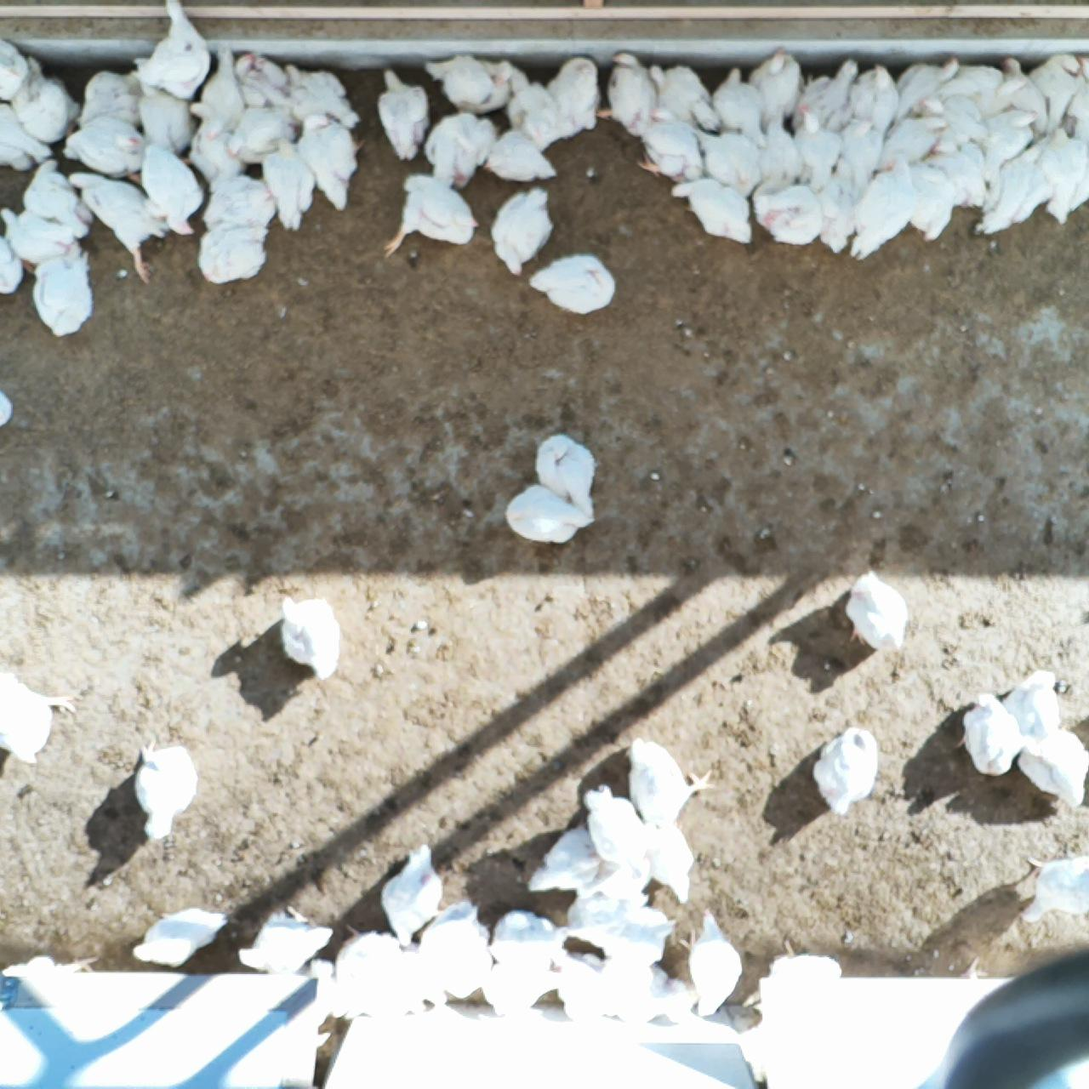chicken: (67, 166, 172, 284), (381, 153, 481, 259), (624, 734, 719, 830), (132, 0, 225, 98), (974, 135, 1053, 242), (844, 155, 919, 267), (234, 899, 338, 977), (415, 902, 493, 1003), (376, 837, 446, 949), (127, 737, 203, 839), (0, 668, 77, 766), (299, 114, 372, 217), (417, 105, 505, 189), (681, 905, 746, 1017), (667, 172, 758, 248), (129, 903, 229, 972), (369, 65, 437, 166), (637, 805, 703, 909), (328, 928, 399, 1023), (427, 48, 522, 118), (10, 56, 83, 147), (500, 479, 595, 548), (533, 58, 609, 144), (955, 690, 1028, 779), (809, 722, 882, 811), (525, 819, 607, 898), (0, 197, 87, 271), (488, 185, 556, 279), (63, 110, 149, 184), (811, 145, 867, 258), (527, 248, 618, 316), (274, 591, 342, 682), (532, 430, 603, 517), (626, 109, 708, 184), (842, 566, 911, 655), (1014, 726, 1089, 807), (582, 905, 681, 966), (581, 777, 648, 867), (32, 240, 93, 338), (185, 103, 251, 192), (138, 144, 203, 234), (1017, 846, 1089, 927), (897, 157, 961, 248), (794, 55, 865, 137), (744, 42, 809, 131), (19, 157, 92, 236), (763, 932, 846, 1001), (259, 135, 317, 233), (599, 51, 665, 136), (189, 46, 253, 133), (994, 667, 1069, 741), (692, 124, 766, 198), (888, 51, 964, 123), (282, 60, 360, 130), (194, 216, 270, 287), (867, 109, 950, 174), (501, 67, 563, 153), (74, 64, 148, 136), (486, 905, 574, 965), (135, 72, 195, 158), (751, 177, 823, 248), (227, 100, 302, 168), (917, 142, 989, 212), (481, 959, 567, 1017), (923, 86, 991, 159), (597, 957, 673, 1022), (997, 51, 1053, 139), (709, 63, 769, 145), (752, 105, 806, 194), (201, 170, 281, 230), (793, 98, 843, 192), (1028, 50, 1082, 137), (647, 63, 718, 128), (831, 113, 885, 198), (482, 127, 559, 186), (551, 949, 614, 1021), (0, 101, 63, 173), (1035, 127, 1080, 225), (571, 859, 655, 911), (956, 61, 1027, 122), (391, 943, 451, 1014), (234, 51, 298, 117), (976, 103, 1037, 172), (553, 889, 633, 941), (847, 63, 901, 140), (0, 224, 42, 298), (306, 954, 344, 1034), (0, 950, 98, 978), (1062, 54, 1089, 145), (0, 37, 37, 100), (1063, 136, 1089, 213), (0, 388, 19, 428)
